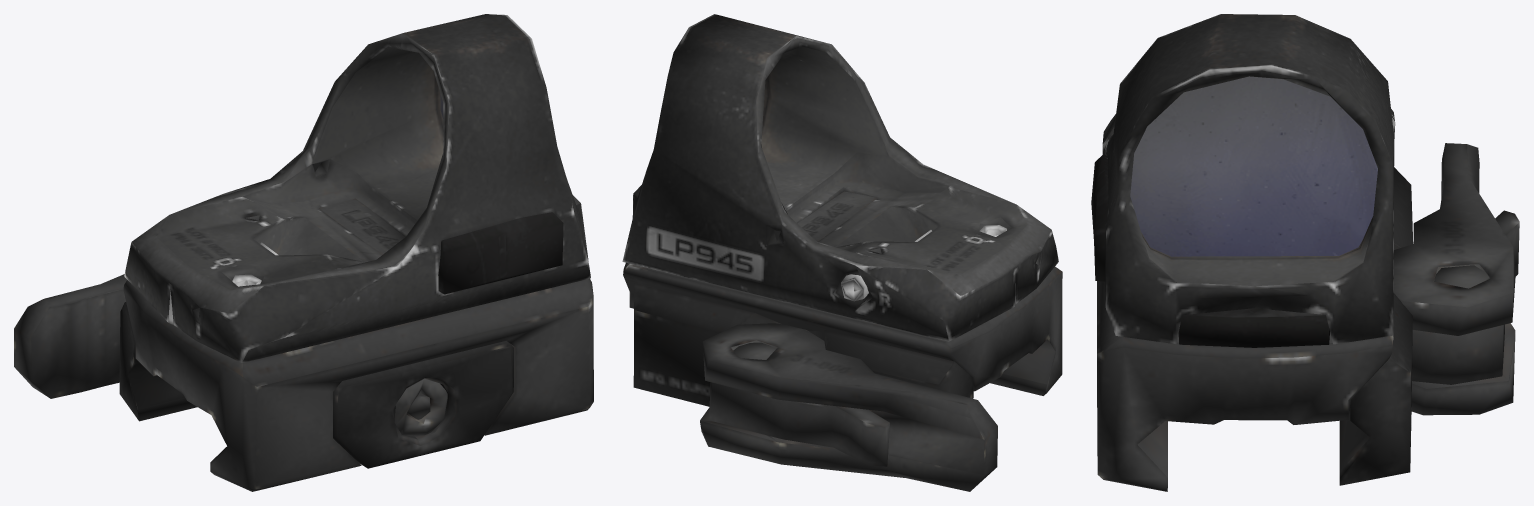
Rendered from HoloSight.fbx.
The picture shows the model from 3 angles, left to right: view 1: azimuth 30°, elevation 25°; view 2: azimuth 150°, elevation 25°; view 3: azimuth 270°, elevation 25°; orthographic projection. The views are drawn at different scales.
Parts seen in each view (by area): view 1: HoloSight; view 2: HoloSight; view 3: HoloSight.
Part boxes in pixels (x1=…): HoloSight: x1=14, y1=14, x2=593, y2=491; HoloSight: x1=622, y1=14, x2=1062, y2=491; HoloSight: x1=1091, y1=14, x2=1519, y2=491.
Size of the model in its own units: 0.0424 by 0.0316 by 0.0298.
